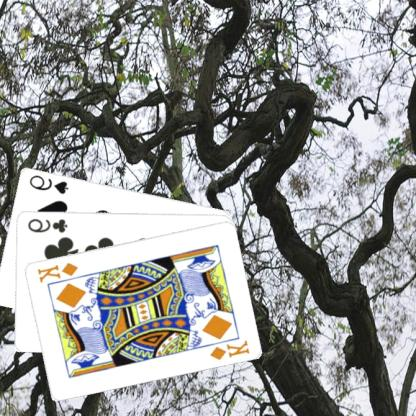9C: (26, 215, 70, 233)
9S: (28, 171, 71, 195)
KD: (36, 260, 81, 284), (208, 338, 252, 362)
